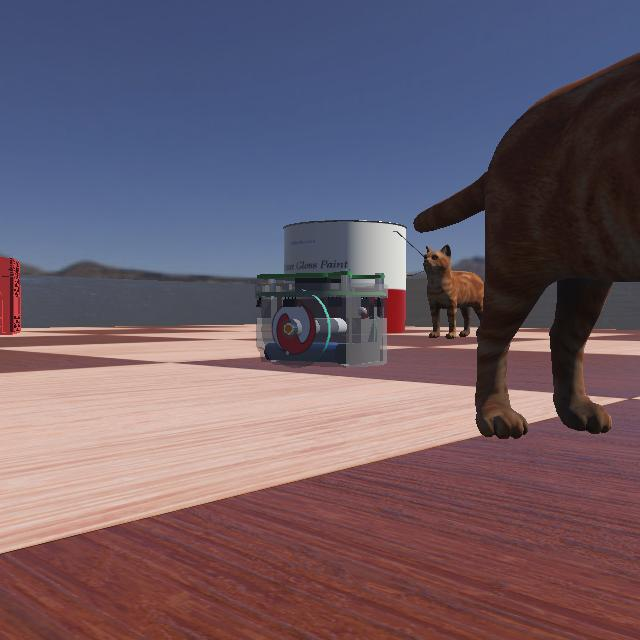cat: (406, 0, 640, 552), (405, 242, 533, 338), (405, 242, 533, 338)
